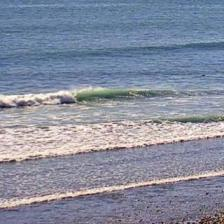surfer: (201, 74, 205, 77)
